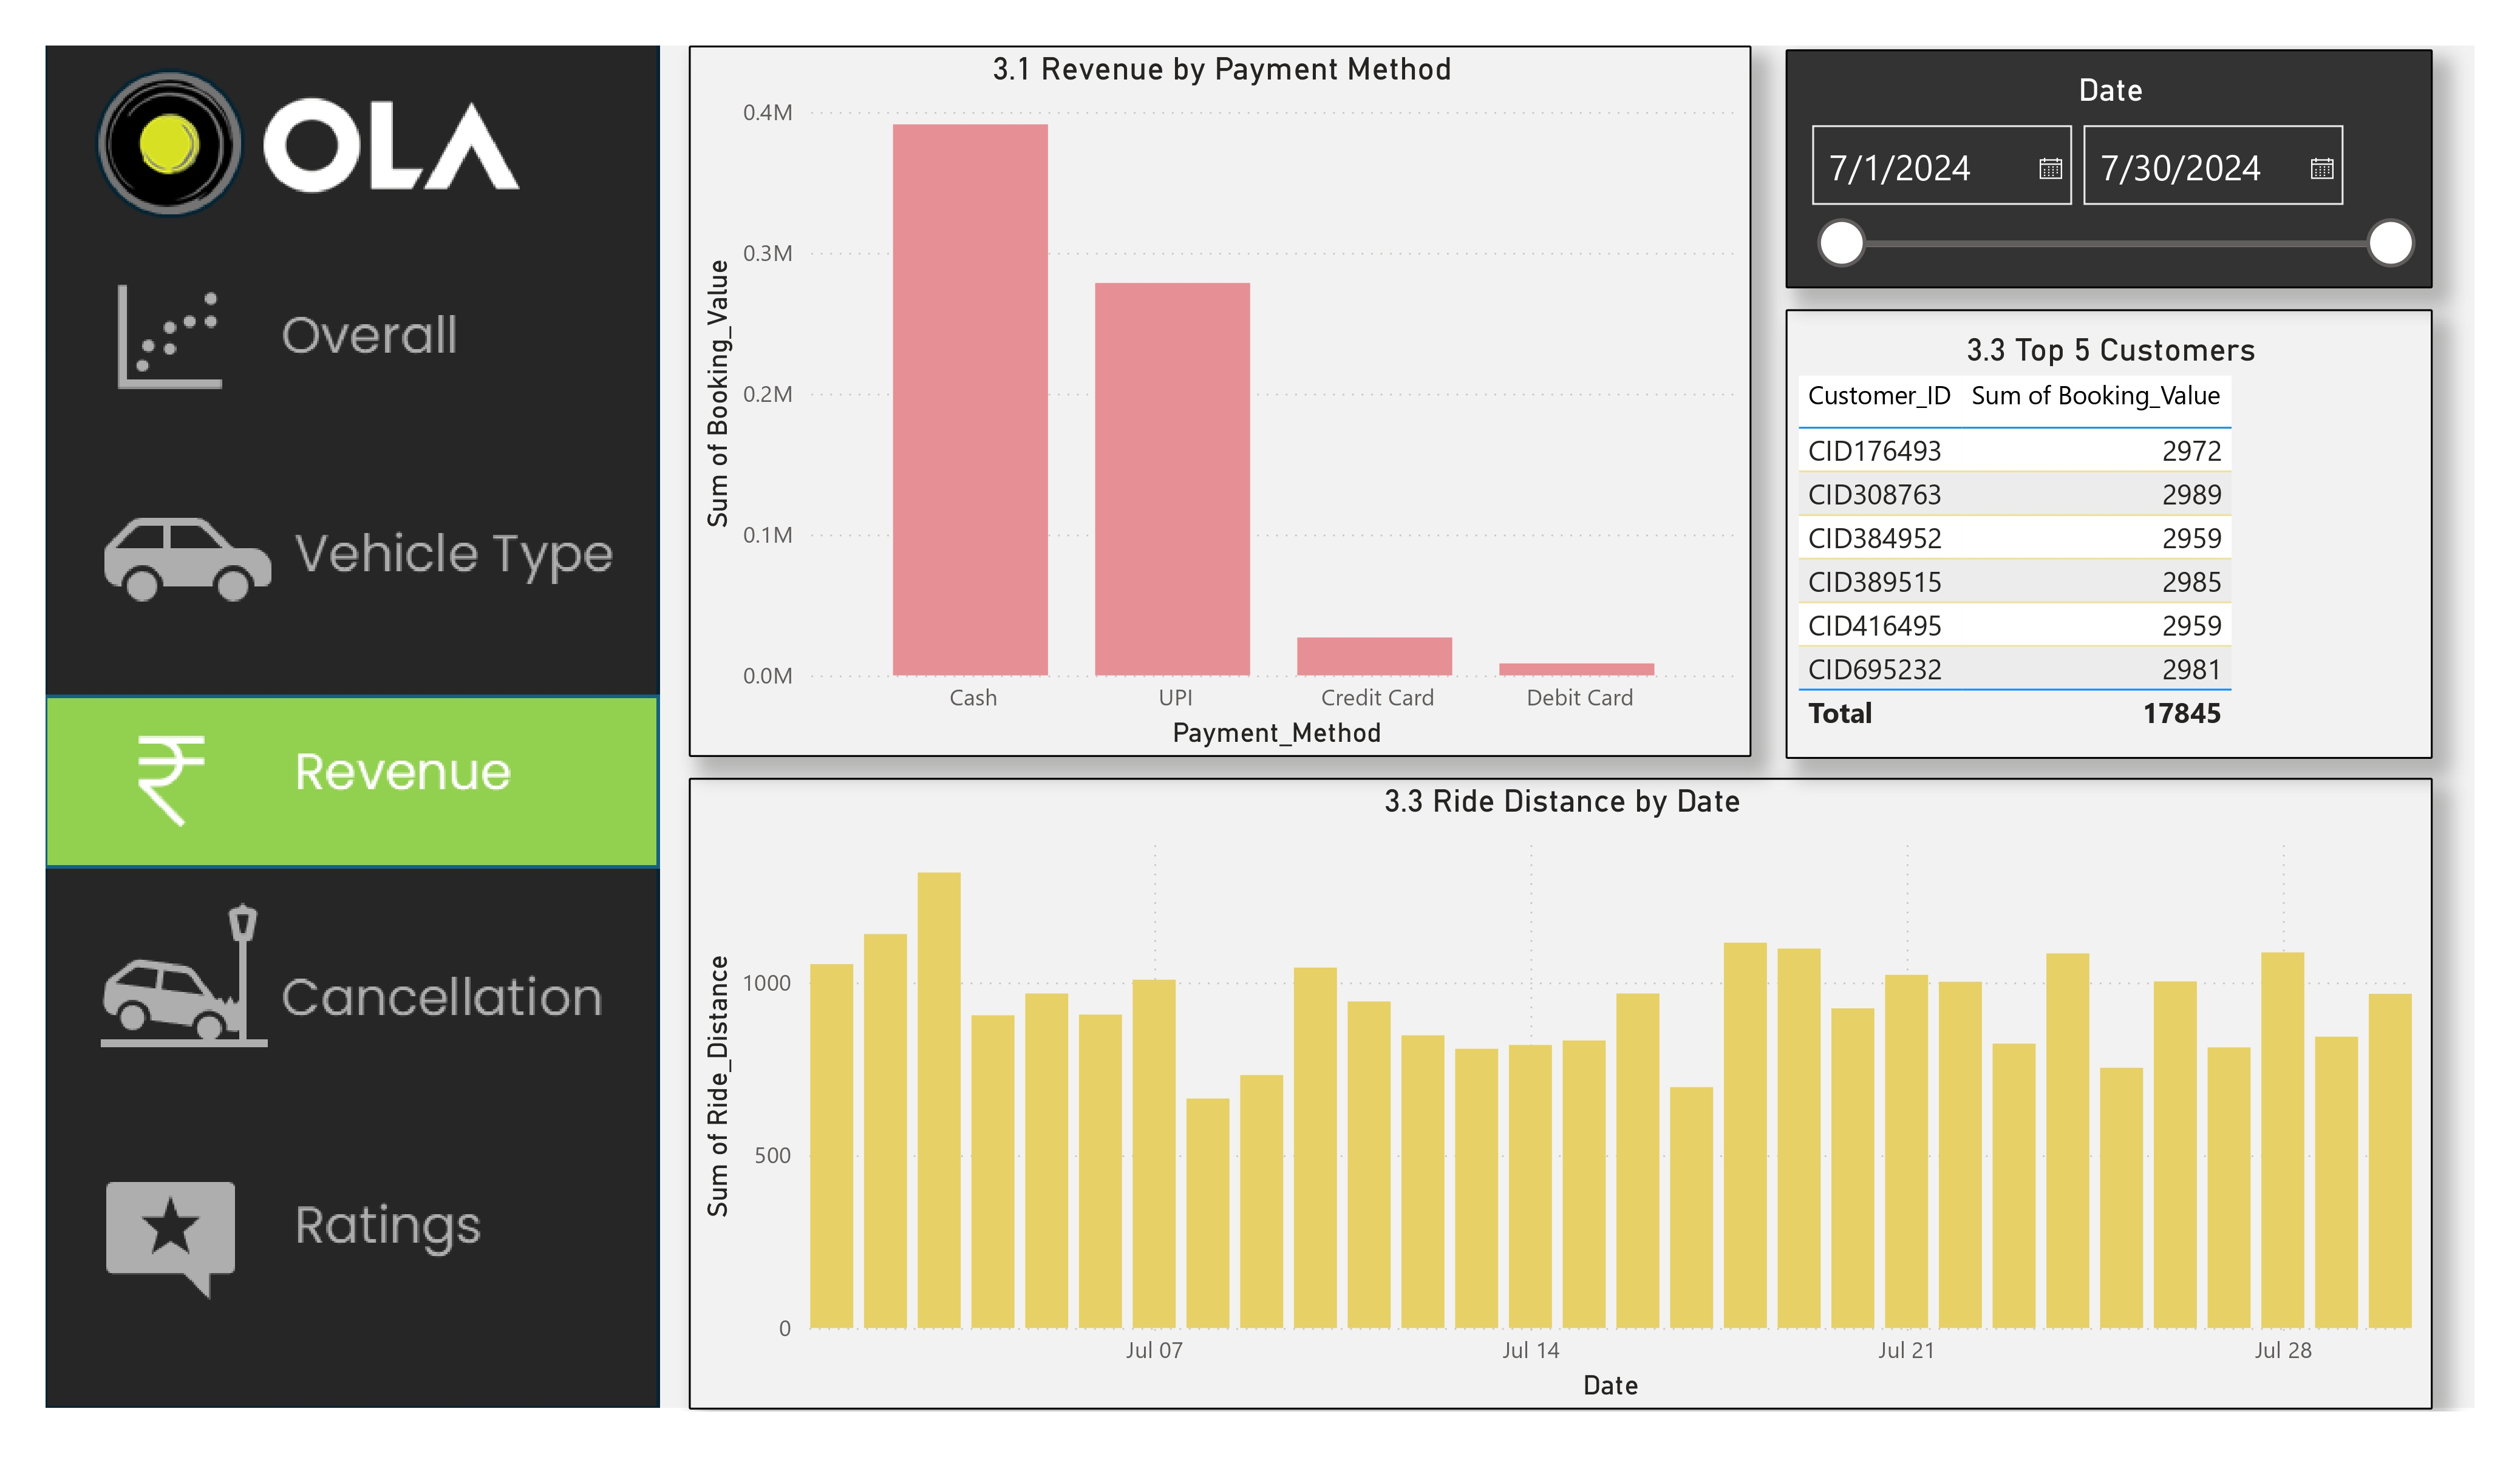

The page's visual inventory and layout, read from the dashboard file:
{"tool":"powerbi","page":{"name":"Revenue","canvas":[1280,720],"ordinal":2},"visuals":[{"type":"actionButton","box":[0,445,322.6,97.9],"z":0},{"type":"actionButton","box":[0,568.8,322.6,97.9],"z":1000},{"type":"actionButton","box":[0,218.9,322.6,89.3],"z":2000},{"type":"actionButton","box":[0,105.1,324,96.5],"z":3000},{"type":"columnChart","title":"3.1 Revenue by Payment Method","fields":{"Y":["Sum(July.Booking_Value)"],"Category":["July.Payment_Method"]},"box":[339.3,0,559.4,374.6],"z":4000},{"type":"columnChart","title":"3.3 Ride Distance by Date","fields":{"Y":["Sum(July.Ride_Distance)"],"Category":["July.Date"]},"box":[339.3,386.4,918.8,332.6],"z":5000},{"type":"slicer","title":"Date","fields":{"Values":["July.Date"]},"box":[917.2,1.7,341,126],"z":6000},{"type":"tableEx","title":"3.3 Top 5 Customers","fields":{"Values":["July.Customer_ID","Sum(July.Booking_Value)"]},"box":[917.2,139.4,341,236.9],"z":7000}]}

Visuals, with their boxes on the page's 1280x720 design canvas (x1, y1, x2, y2). These are canvas units, not pixel positions in the 2520x1457 screenshot, which may show the page scaled, cropped or inside an application window:
actionButton: Rect(0, 445, 323, 543)
actionButton: Rect(0, 569, 323, 667)
actionButton: Rect(0, 219, 323, 308)
actionButton: Rect(0, 105, 324, 202)
"3.1 Revenue by Payment Method" columnChart: Rect(339, 0, 899, 375)
"3.3 Ride Distance by Date" columnChart: Rect(339, 386, 1258, 719)
"Date" slicer: Rect(917, 2, 1258, 128)
"3.3 Top 5 Customers" tableEx: Rect(917, 139, 1258, 376)
